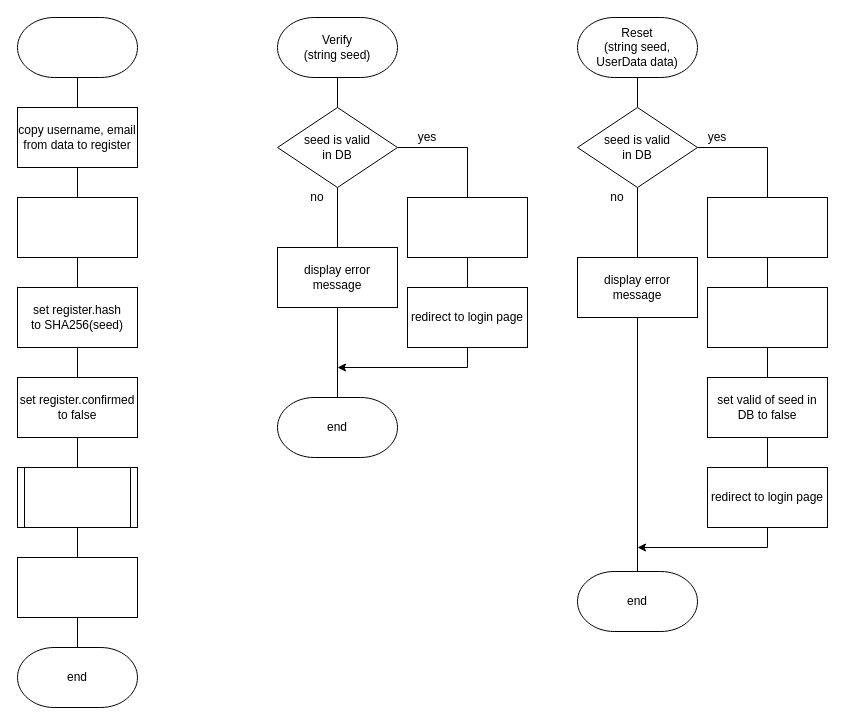
Image size: 845x725. Some labels were removed from this diagram. Each missing label, with the centre of its shape:
"add register to DB" goes at (x=77, y=587).
"Register (UserData data)" goes at (x=77, y=47).
"SendVerification (register)" goes at (x=77, y=497).
"set passwordHash of user to SHA256 (passowrdSeed)" goes at (x=767, y=317).
"set user.confirmed to true" goes at (x=467, y=227).
"var passwordSeed = data.Username + SHA256 (data.Password)" goes at (x=767, y=227).
"var seed = username + SHA256 (data.password)" goes at (x=77, y=227).
